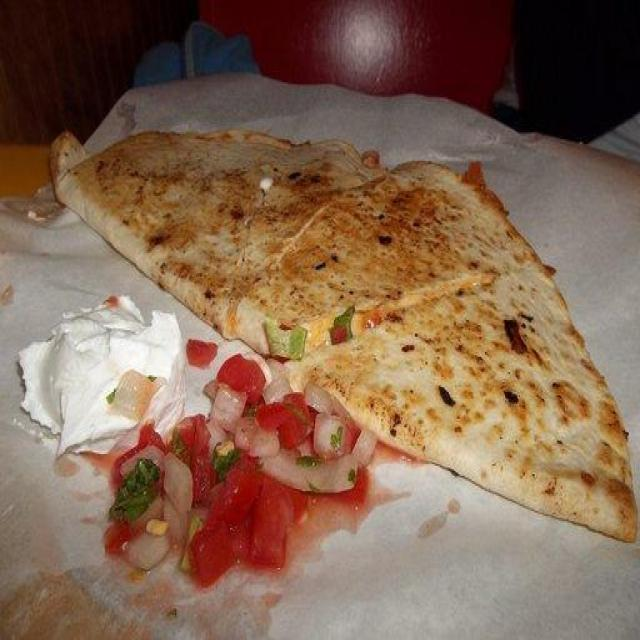food_waste: (38, 97, 640, 579), (180, 349, 381, 583), (43, 288, 184, 460)
